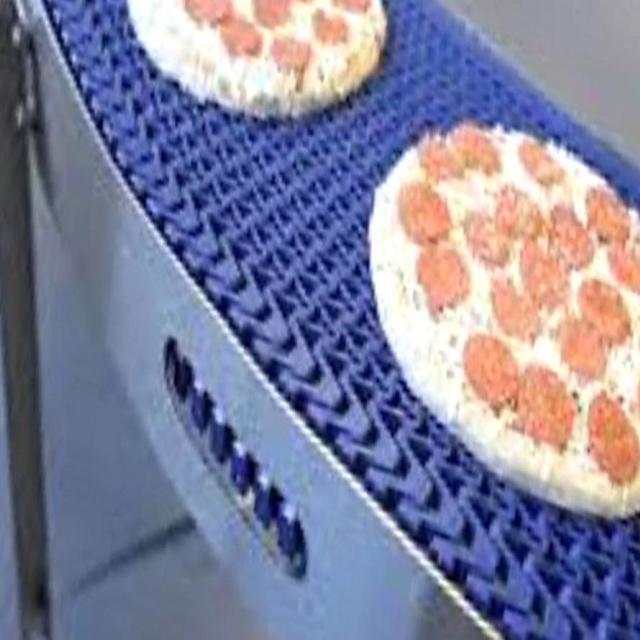food: (362, 110, 640, 522)
